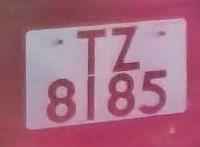1: (79, 71, 105, 125)
5: (135, 67, 177, 118)
8: (37, 70, 84, 128), (103, 69, 140, 123)
T: (70, 23, 117, 77)
Z: (106, 23, 145, 78)
